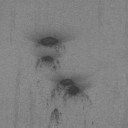iron sheet ash: (60, 78, 80, 96), (36, 36, 59, 48), (40, 55, 54, 64)
